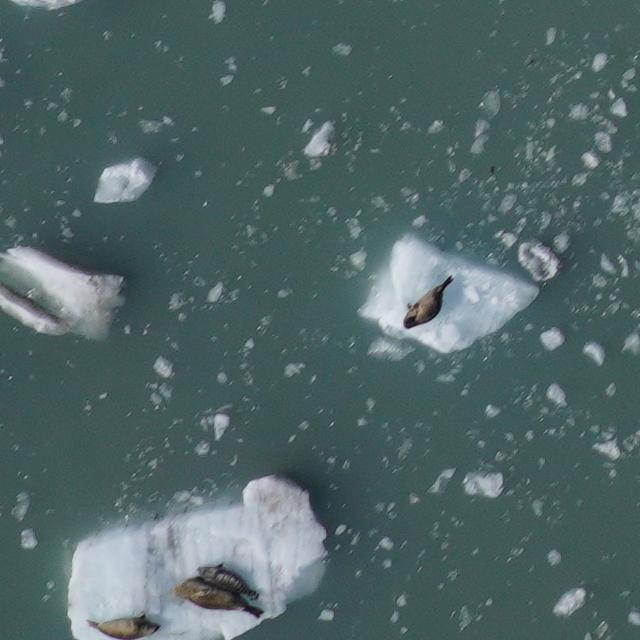seal: (168, 567, 268, 629), (393, 273, 467, 335), (193, 553, 266, 606), (85, 612, 162, 639)
